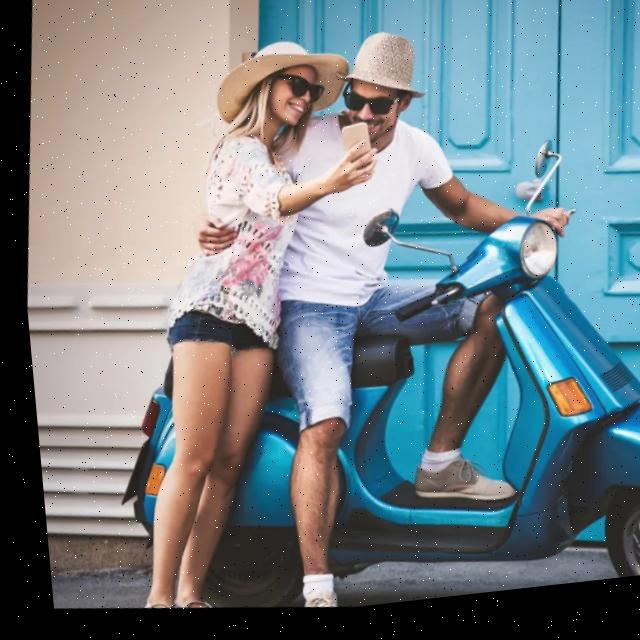illegal_helmet: (202, 28, 356, 150), (319, 25, 438, 161)
